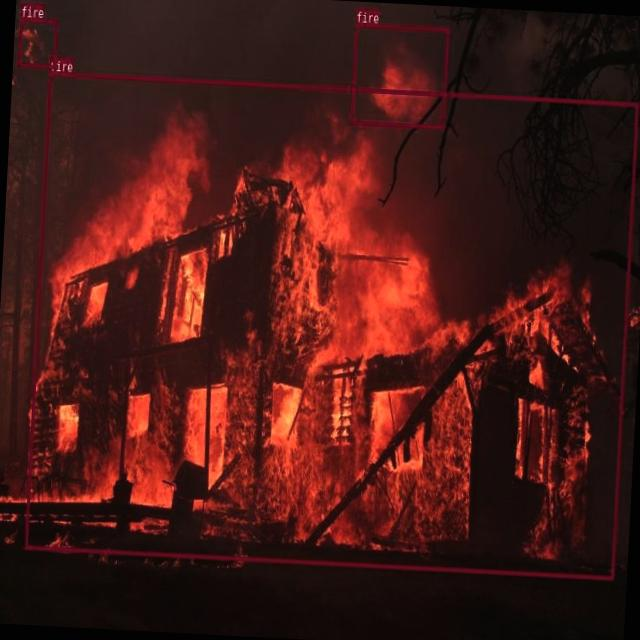fire: (24, 71, 638, 578), (350, 22, 449, 129), (17, 18, 58, 68)
